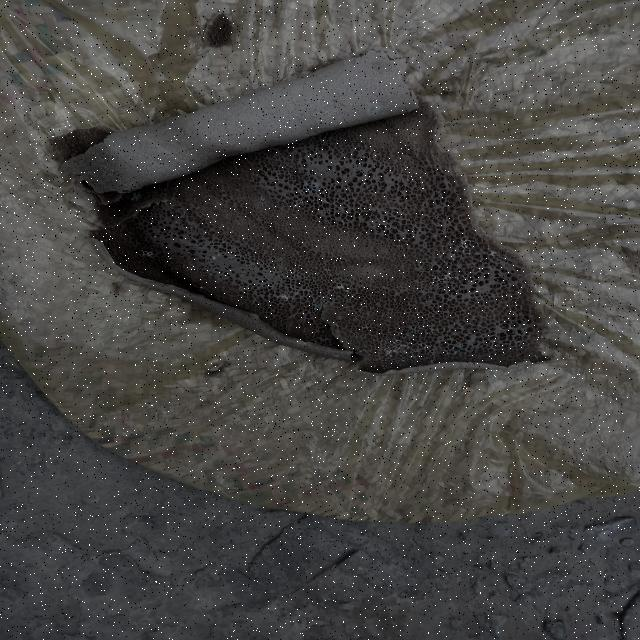injera_mold: (425, 346, 438, 362), (313, 296, 327, 310), (431, 274, 455, 282), (138, 250, 155, 259), (453, 344, 465, 355), (383, 358, 405, 364), (304, 183, 316, 193), (129, 192, 140, 202), (397, 344, 408, 354), (407, 326, 419, 335), (274, 294, 289, 301), (488, 249, 497, 260), (462, 239, 469, 253), (293, 200, 305, 208), (289, 272, 302, 279), (383, 349, 396, 356), (470, 341, 479, 348), (322, 268, 332, 274), (258, 198, 266, 205), (337, 284, 345, 291), (511, 322, 519, 329), (409, 356, 417, 363), (360, 326, 371, 331), (368, 107, 377, 113), (429, 328, 436, 335), (150, 233, 158, 239), (473, 240, 479, 248), (353, 347, 360, 353), (184, 249, 192, 254), (199, 285, 206, 290), (209, 255, 214, 260), (167, 258, 174, 261), (534, 356, 538, 359), (390, 341, 401, 342)
